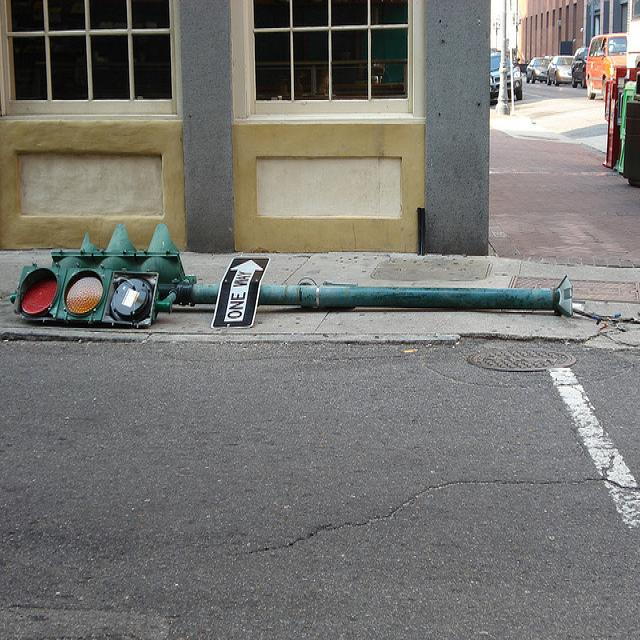Vehicle: (586, 32, 628, 101), (490, 53, 522, 104), (548, 54, 574, 86), (526, 57, 553, 84), (572, 46, 589, 88)
